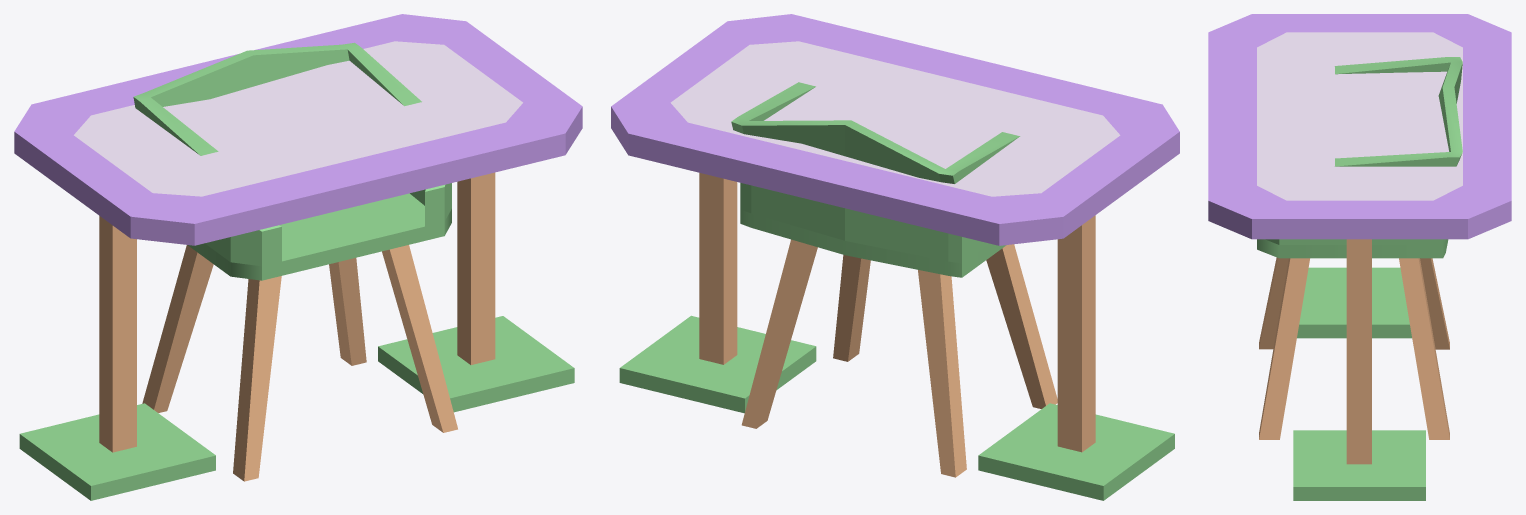
Rendered from Table_N_Chair_02.fbx.
The picture shows the model from 3 angles, left to right: view 1: azimuth 30°, elevation 25°; view 2: azimuth 150°, elevation 25°; view 3: azimuth 270°, elevation 25°; orthographic projection. The views are drawn at different scales.
Parts seen in each view (by area): view 1: Table_Level_02, Chair_Level_02; view 2: Table_Level_02, Chair_Level_02; view 3: Table_Level_02, Chair_Level_02.
Part boxes in pixels (left/top/right/bottom): Table_Level_02: left=14, top=14, right=582, bottom=500; Chair_Level_02: left=133, top=42, right=457, bottom=481; Table_Level_02: left=611, top=14, right=1179, bottom=500; Chair_Level_02: left=731, top=82, right=1057, bottom=477; Table_Level_02: left=1208, top=14, right=1511, bottom=500; Chair_Level_02: left=1257, top=57, right=1462, bottom=439.
Size of the model in its own units: 376 by 243 by 220.
2 materials, 2 textured.
